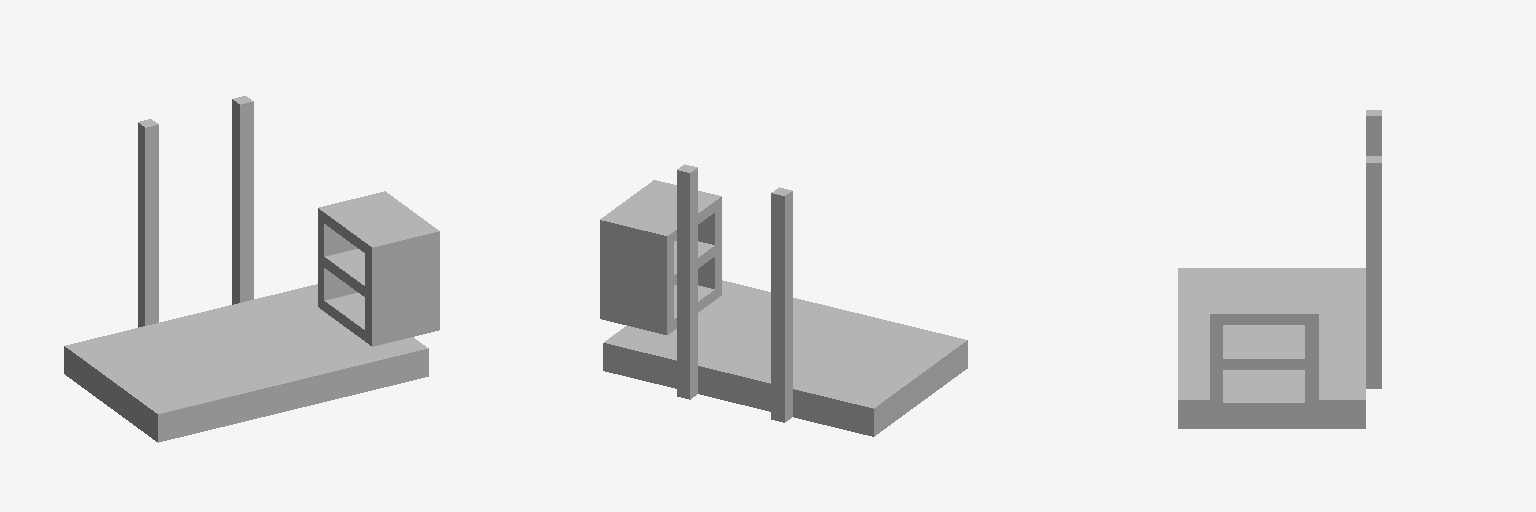
Rendered from meow.obj.
3 renders of one model, left to right at view 1: azimuth 30°, elevation 25°; view 2: azimuth 150°, elevation 25°; view 3: azimuth 270°, elevation 25°, orthographic.
Visible parts, largest first — view 1: entity0_brush0, entity0_brush9, entity0_brush2, entity0_brush1, entity0_brush5, entity0_brush7, entity0_brush3, entity0_brush6, entity0_brush8, entity0_brush4; view 2: entity0_brush0, entity0_brush1, entity0_brush2, entity0_brush9, entity0_brush4, entity0_brush8, entity0_brush6, entity0_brush3, entity0_brush5, entity0_brush7; view 3: entity0_brush0, entity0_brush9, entity0_brush3, entity0_brush6, entity0_brush2, entity0_brush1.
Boxes of the visible parts, box(x1,y1,x2,y2) form: entity0_brush0: box(64, 284, 428, 442); entity0_brush9: box(318, 191, 439, 258); entity0_brush2: box(232, 96, 253, 304); entity0_brush1: box(138, 119, 158, 327); entity0_brush5: box(365, 286, 439, 335); entity0_brush7: box(365, 242, 439, 291); entity0_brush3: box(318, 293, 439, 346); entity0_brush6: box(318, 249, 439, 302); entity0_brush8: box(318, 219, 357, 256); entity0_brush4: box(318, 263, 357, 300); entity0_brush0: box(603, 280, 967, 436); entity0_brush1: box(771, 187, 792, 422); entity0_brush2: box(677, 164, 697, 399); entity0_brush9: box(600, 180, 721, 246); entity0_brush4: box(600, 275, 673, 323); entity0_brush8: box(600, 231, 673, 279); entity0_brush6: box(600, 241, 721, 290); entity0_brush3: box(600, 285, 721, 334); entity0_brush5: box(698, 252, 721, 288); entity0_brush7: box(698, 208, 721, 244); entity0_brush0: box(1178, 268, 1365, 428); entity0_brush9: box(1210, 281, 1318, 324); entity0_brush3: box(1210, 370, 1318, 413); entity0_brush6: box(1210, 326, 1318, 369); entity0_brush2: box(1366, 156, 1381, 388); entity0_brush1: box(1366, 110, 1381, 155).
Size of the model in its own units: 44 by 32 by 26.